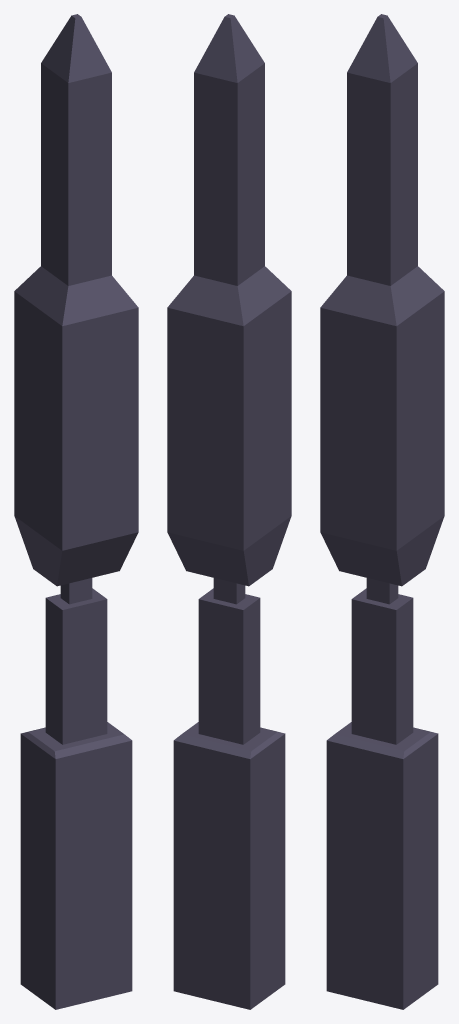
File: RainCasterLimit.fbx
3 renders of one model, left to right at view 1: azimuth 30°, elevation 25°; view 2: azimuth 150°, elevation 25°; view 3: azimuth 330°, elevation 25°, orthographic.
Visible parts, largest first — view 1: pCube62; view 2: pCube62; view 3: pCube62.
Part boxes in pixels (x1,y1,x2,y2): pCube62: (14, 14, 138, 1009); pCube62: (167, 14, 291, 1009); pCube62: (320, 14, 444, 1009).
Size of the model in its own units: 259 by 3126 by 280.
